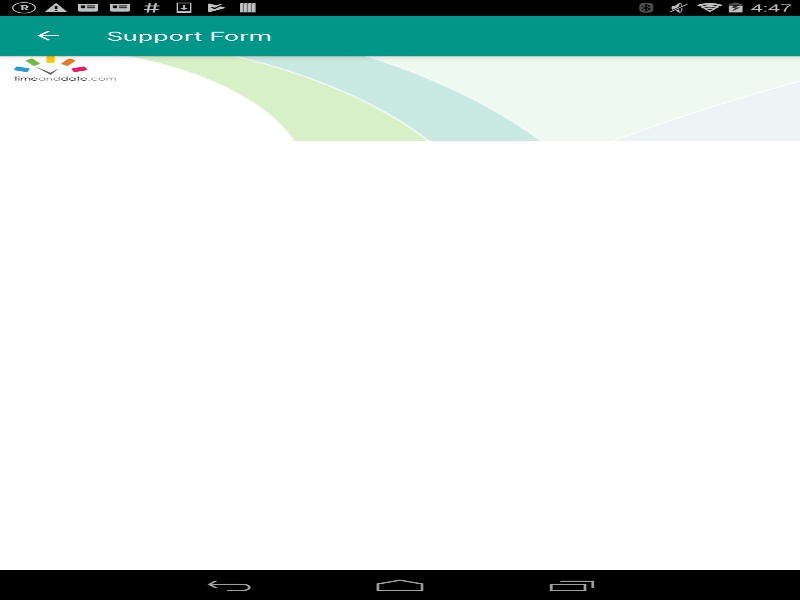Button: (10, 15, 85, 55), (576, 280, 754, 295), (576, 297, 698, 312), (664, 262, 754, 277), (150, 382, 190, 397)
Input: (44, 382, 150, 397), (664, 241, 754, 256)
